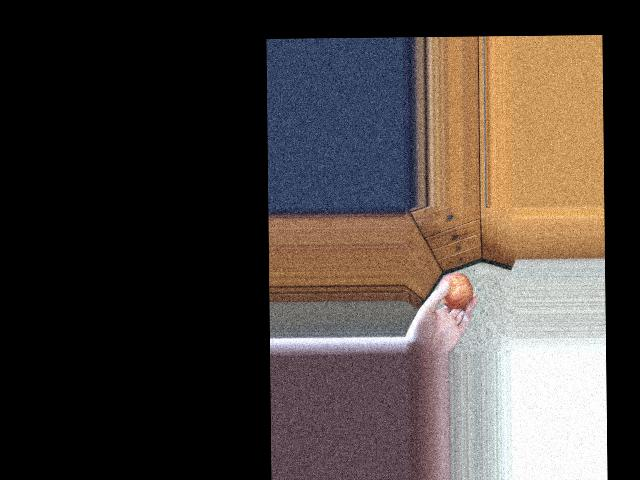apple: (433, 268, 475, 315)
